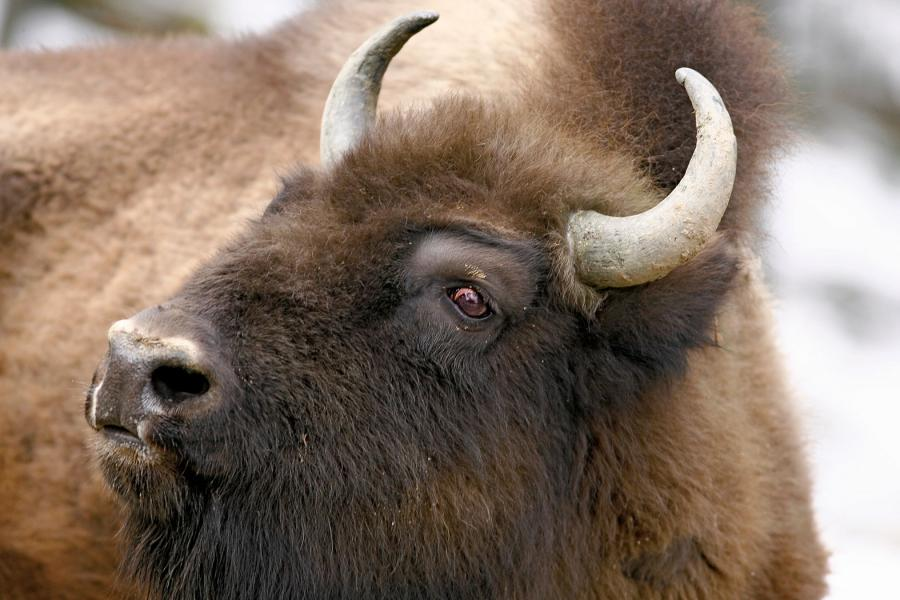zubr: (1, 1, 850, 592)
